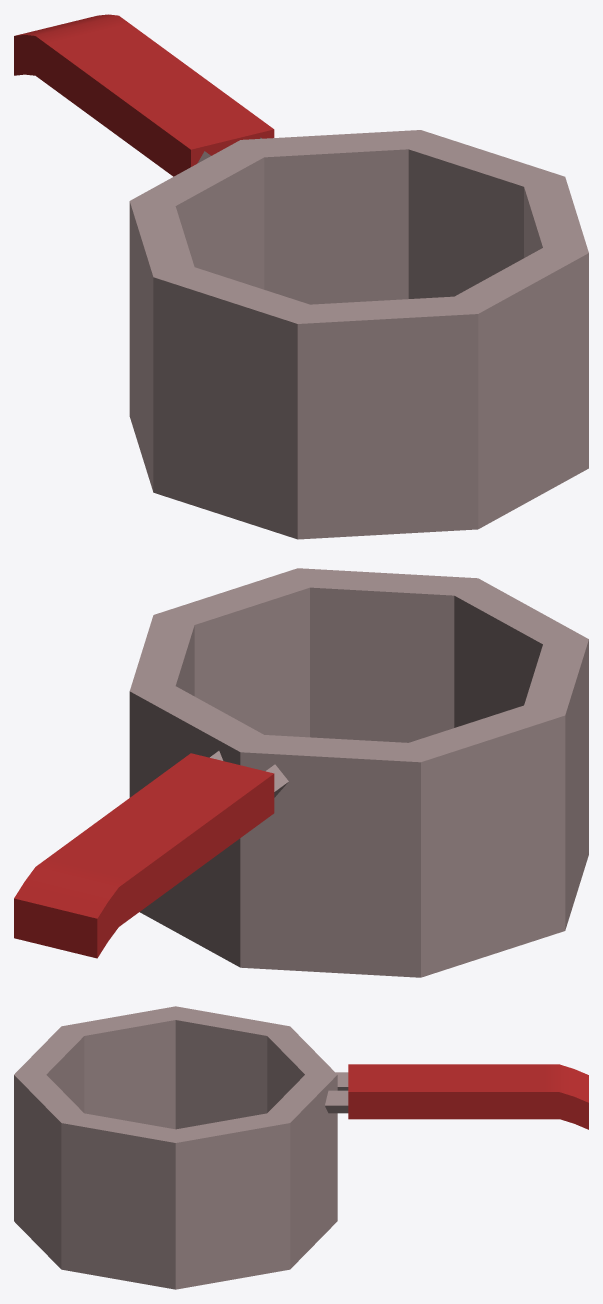
File: nabe.fbx
3 views of the same model, one above another, from view 1: azimuth 30°, elevation 25°; view 2: azimuth 150°, elevation 25°; view 3: azimuth 270°, elevation 25° (orthographic). The views are drawn at different scales.
Parts seen in each view (by area): view 1: pPipe2; view 2: pPipe2; view 3: pPipe2.
Boxes of the visible parts, bbox=[...] form: pPipe2: bbox=[14, 14, 588, 539]; pPipe2: bbox=[14, 568, 588, 977]; pPipe2: bbox=[14, 1006, 588, 1289].
Size of the model in its own units: 7.71 by 3.85 by 13.7.
